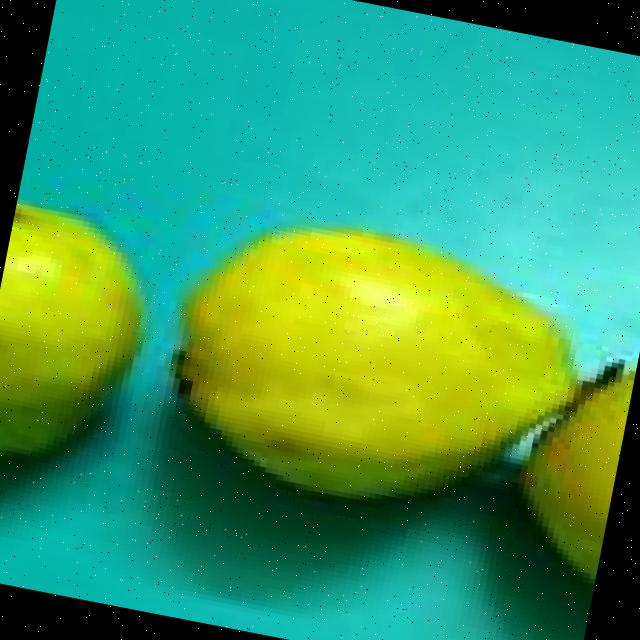Good_Guava 5-7 days: (172, 229, 636, 586), (0, 209, 144, 466)
